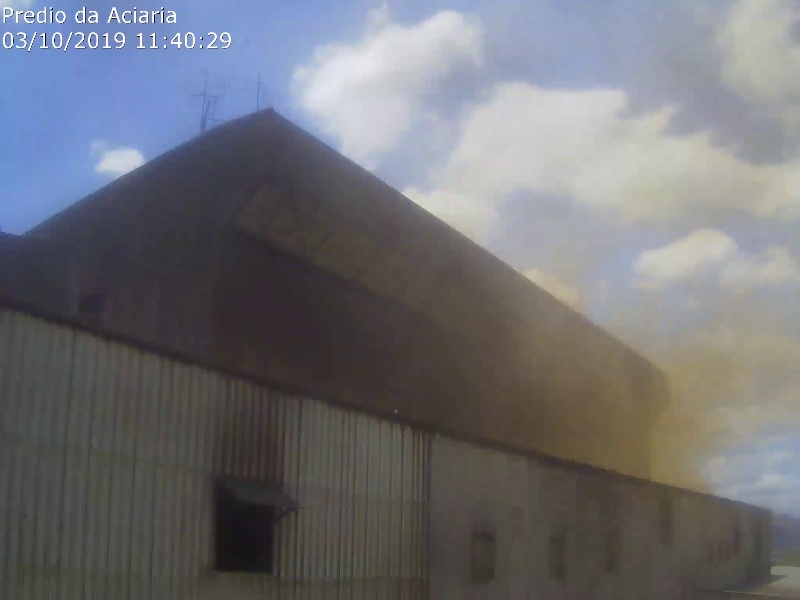bom: (164, 1, 446, 225), (4, 2, 279, 172)
pessimo: (457, 66, 800, 496)
